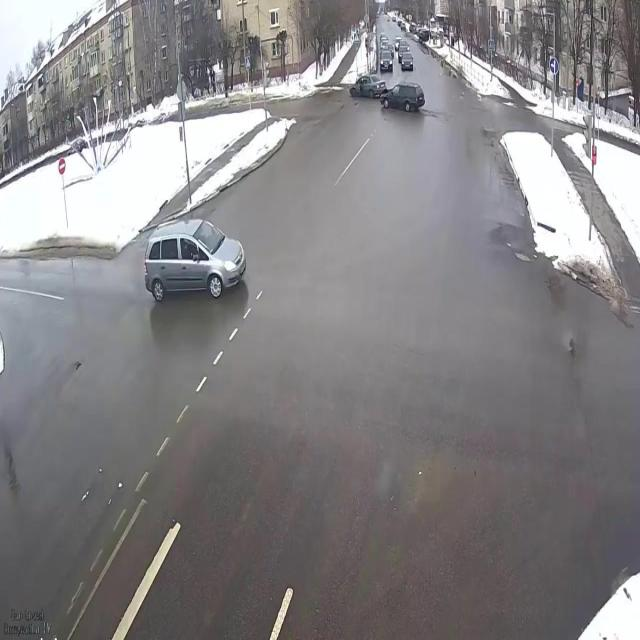moderate: (349, 70, 427, 118)
